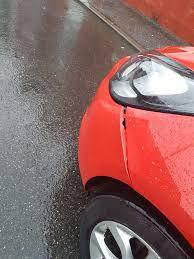front-bumper-dent: (73, 65, 158, 227)
